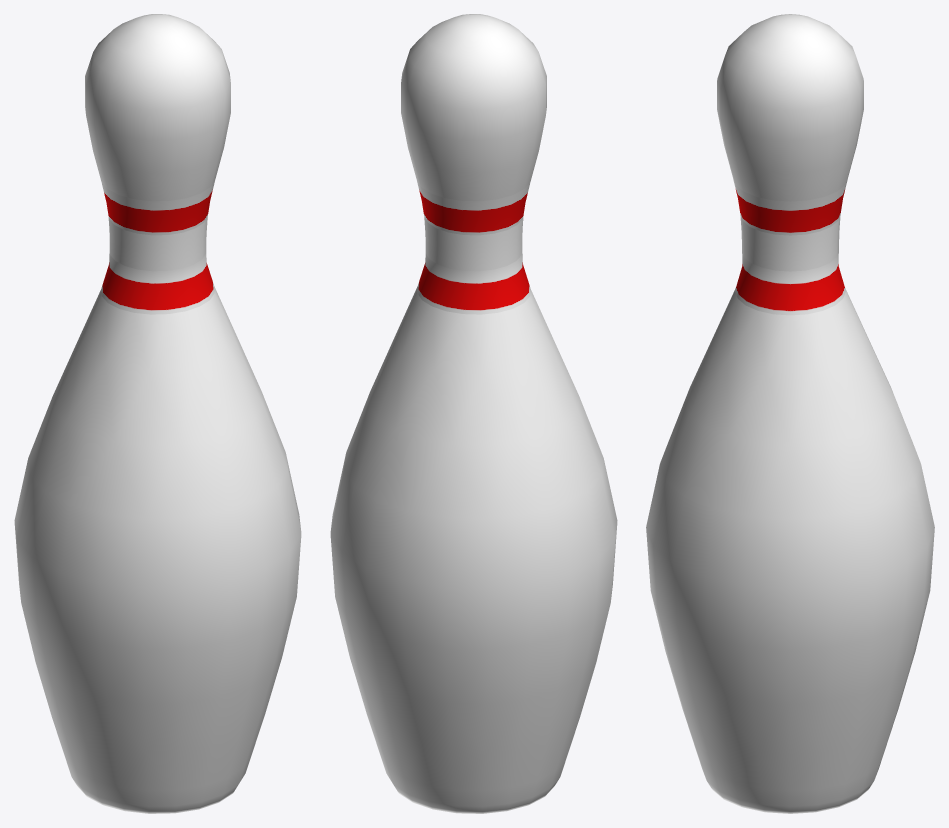
File: bowlingColor.fbx
3 views of the same model, side by side, from view 1: azimuth 30°, elevation 25°; view 2: azimuth 150°, elevation 25°; view 3: azimuth 270°, elevation 25° (orthographic).
Parts seen in each view (by area): view 1: pin; view 2: pin; view 3: pin.
Boxes of the visible parts, <box> form: pin: <box>14,14,301,813</box>; pin: <box>330,14,617,813</box>; pin: <box>646,14,934,813</box>.
Size of the model in its own units: 5.35 by 15.54 by 5.36.
